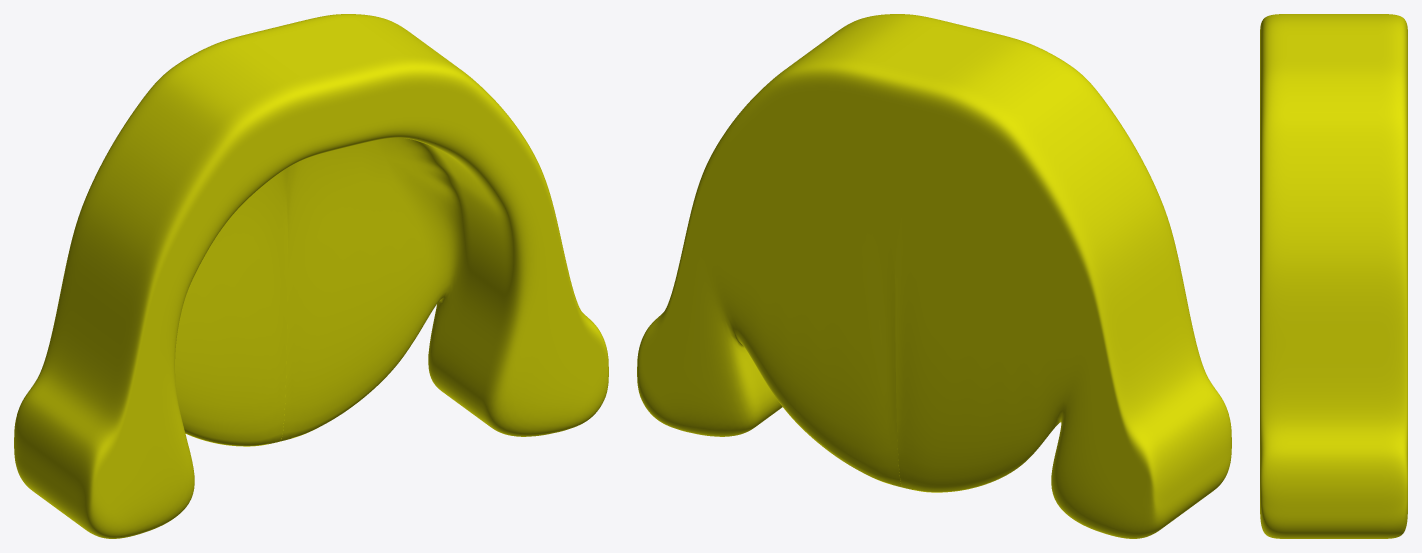
Rendered from femaleHair.dae.
3 renders of one model, left to right at view 1: azimuth 30°, elevation 25°; view 2: azimuth 150°, elevation 25°; view 3: azimuth 270°, elevation 25°, orthographic. The views are drawn at different scales.
Visible parts, largest first — view 1: Cube; view 2: Cube; view 3: Cube.
Boxes of the visible parts, bbox=[...] form: Cube: bbox=[14, 14, 608, 538]; Cube: bbox=[637, 14, 1231, 538]; Cube: bbox=[1260, 14, 1407, 538].
Size of the model in its own units: 180 by 136 by 47.
